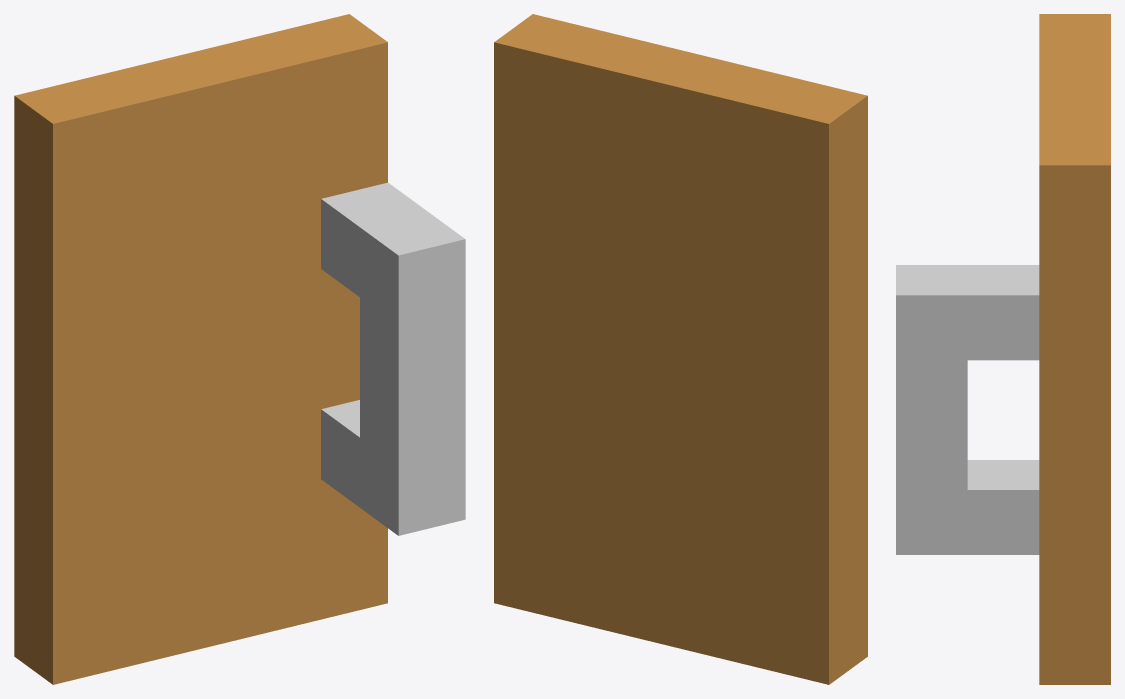
The model's file is medium_door.glb.
3 renders of one model, left to right at view 1: azimuth 30°, elevation 25°; view 2: azimuth 150°, elevation 25°; view 3: azimuth 270°, elevation 25°, orthographic. The views are drawn at different scales.
Visible parts, largest first — view 1: pl0; view 2: pl0; view 3: pl0.
Boxes of the visible parts, box(x1,y1,x2,y2) form: pl0: box(14, 14, 465, 684); pl0: box(494, 14, 867, 684); pl0: box(896, 14, 1110, 684).
Size of the model in its own units: 0.5 by 0.8 by 0.3.
1 material, 1 textured.
